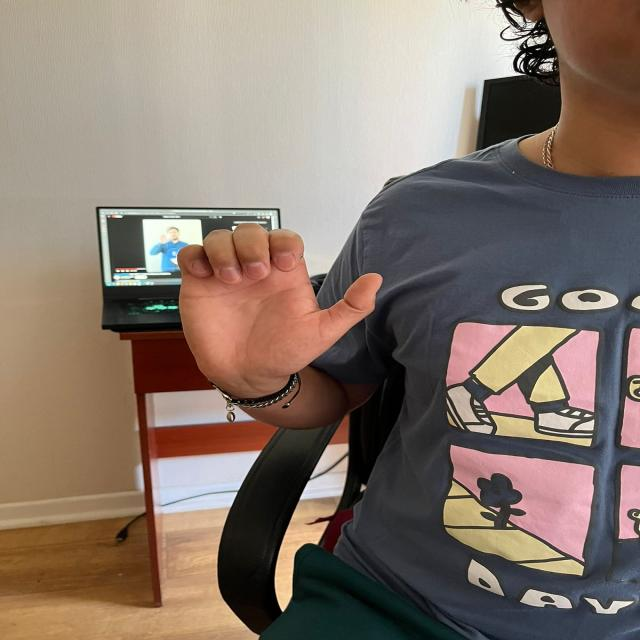E: (172, 220, 387, 386)
